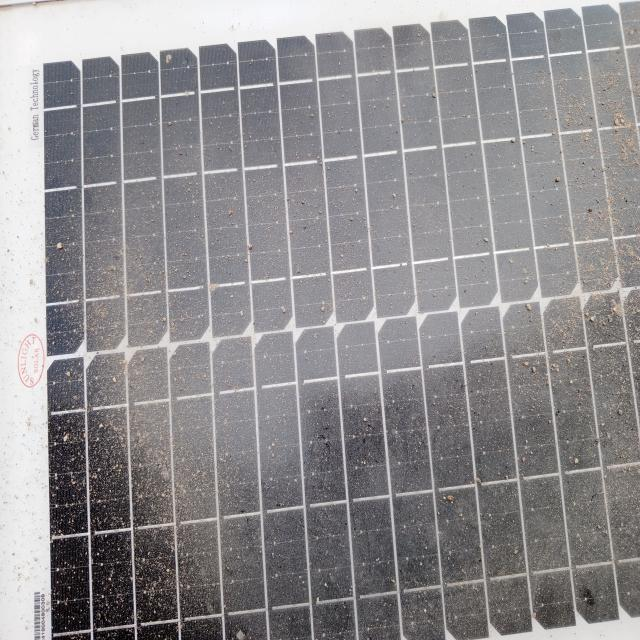Anomaly Solar Panel: (37, 40, 639, 610)
Surface Contaminant: (37, 40, 639, 610)
